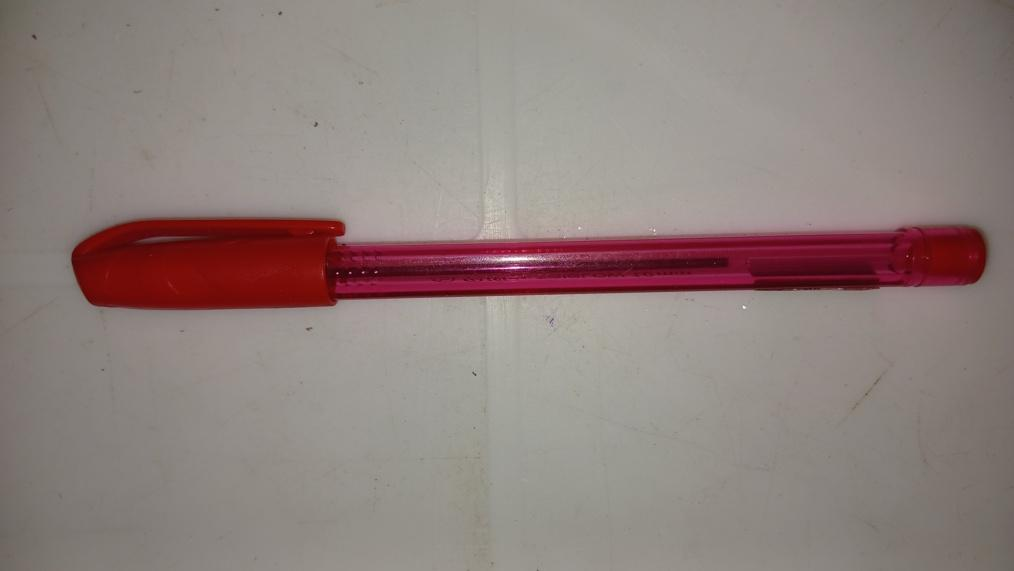pen: (69, 216, 990, 310)
